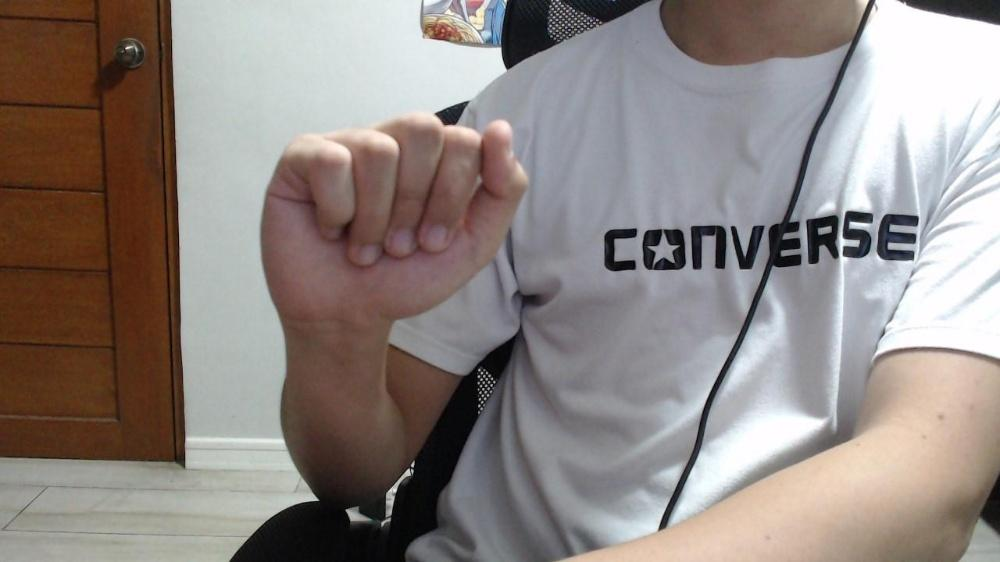a: (259, 113, 527, 317)
